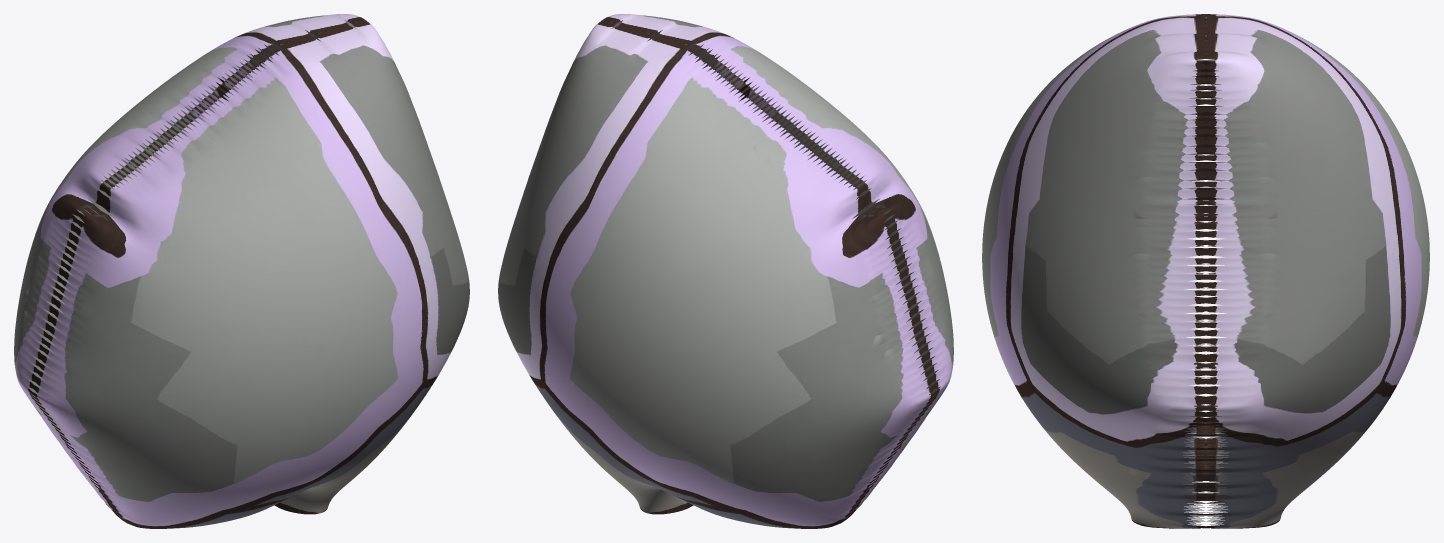
File: tilted_shard.glb
3 renders of one model, left to right at view 1: azimuth 30°, elevation 25°; view 2: azimuth 150°, elevation 25°; view 3: azimuth 270°, elevation 25°, orthographic. The views are drawn at different scales.
Visible parts, largest first — view 1: tilted_shard; view 2: tilted_shard; view 3: tilted_shard.
Part boxes in pixels (left/top/right/bottom): tilted_shard: left=14, top=14, right=469, bottom=528; tilted_shard: left=498, top=14, right=953, bottom=528; tilted_shard: left=982, top=14, right=1429, bottom=528.
Bounding box in the file's own units: 0.9883 × 1.01 × 0.8168.
1 material, 1 textured.
